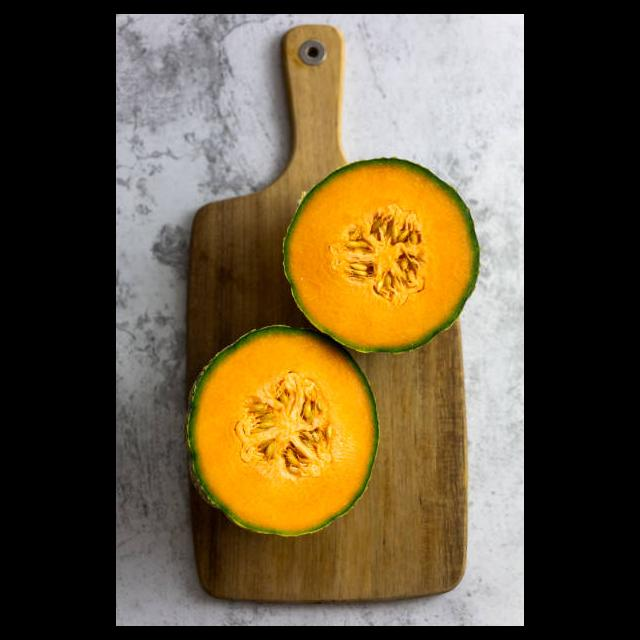Hami Melon: (189, 322, 380, 540), (281, 157, 480, 355)
